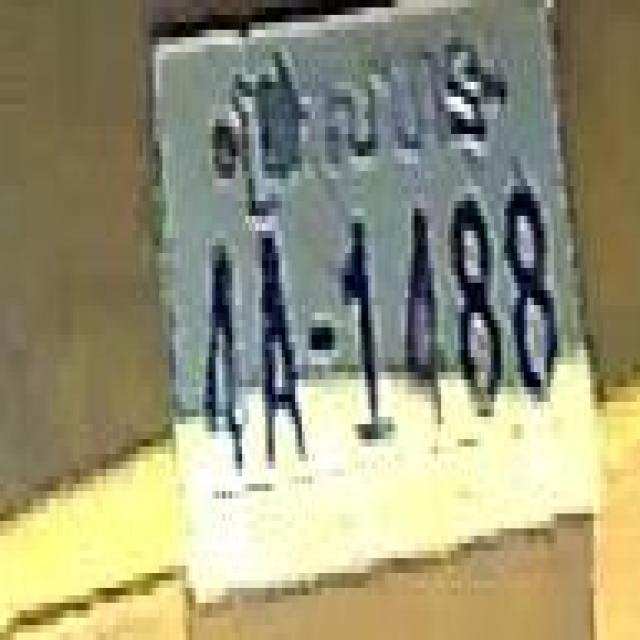Preah_Sihanouk: (229, 37, 484, 220)
